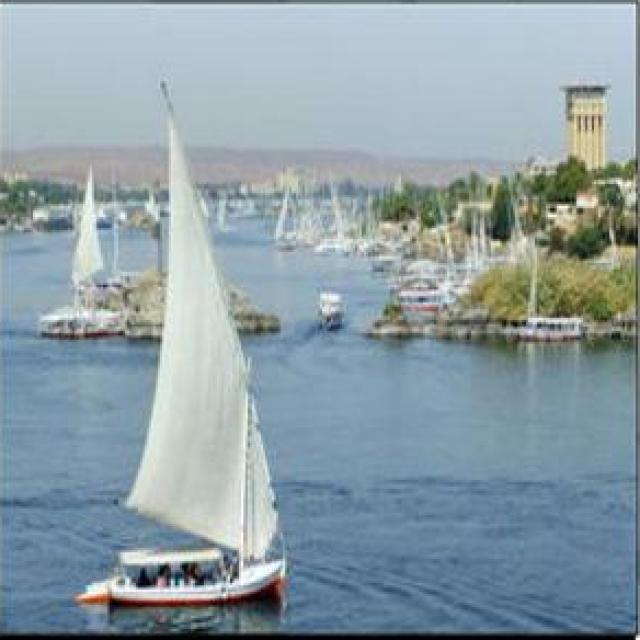passenger ship: (518, 315, 588, 341), (394, 282, 444, 312), (315, 289, 346, 330)
sailboat: (90, 71, 286, 621), (46, 170, 120, 336)
